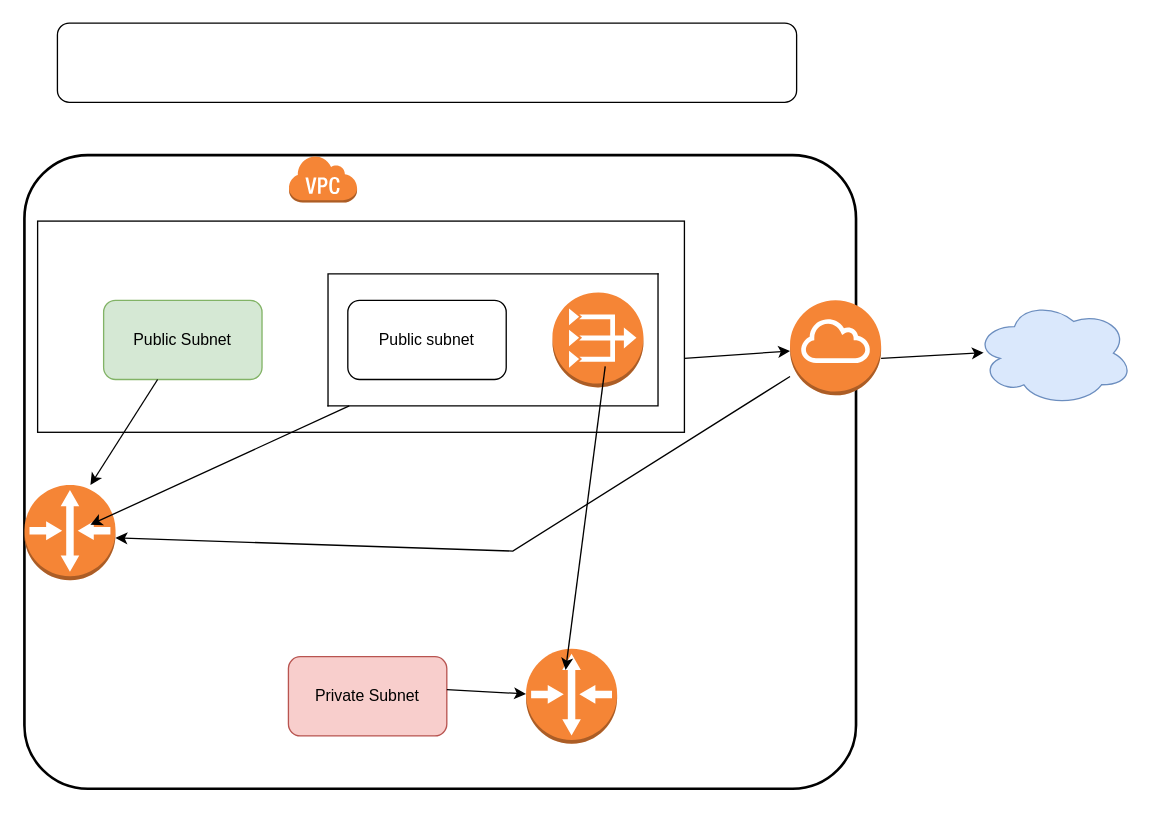
The diagram is 1156 pixels wide and 813 high, and some of its shapes have lost their labels. The box of each missing label's shape, as (x1, y1, x2, y2) in pixels:
3 TIER ARCHITECTURE: (56, 22, 797, 102)
Internet: (974, 299, 1133, 406)
